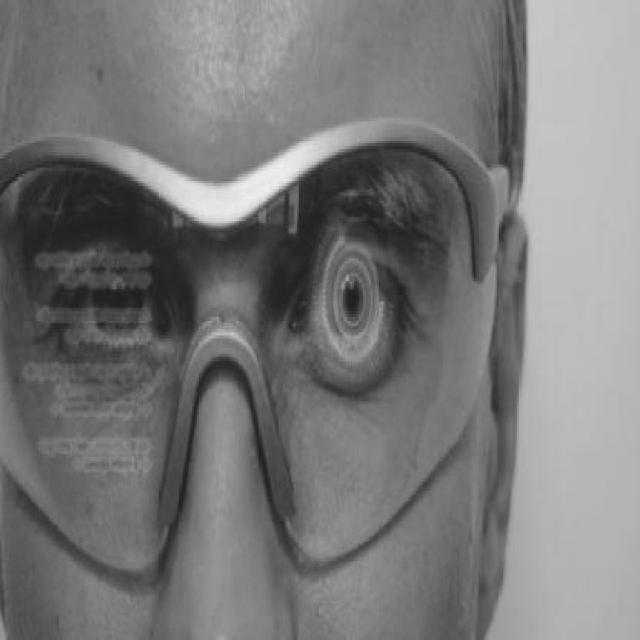glasses: (1, 112, 517, 593)
